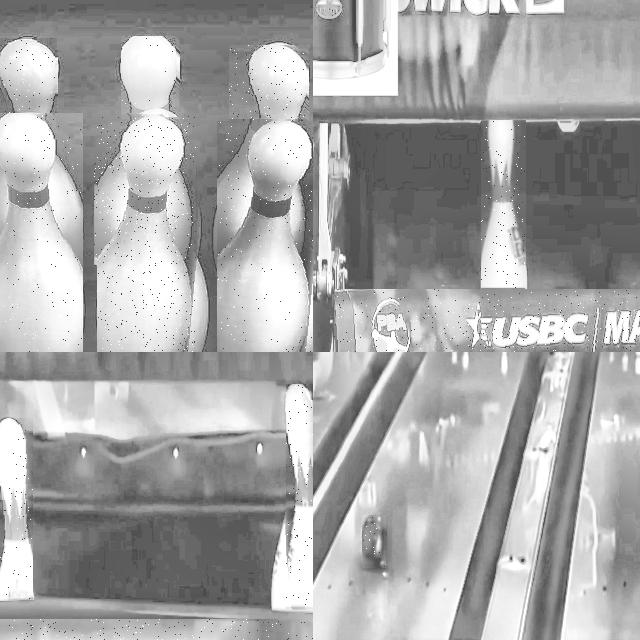bowling-ball: (362, 515, 385, 567)
bowling-pins: (97, 117, 196, 352), (218, 122, 313, 352), (0, 114, 82, 352), (229, 46, 307, 277), (481, 120, 525, 290), (286, 384, 313, 608), (0, 418, 33, 601), (121, 37, 177, 119), (0, 39, 56, 118), (95, 155, 131, 264), (48, 154, 79, 258), (175, 168, 195, 250), (306, 185, 313, 236)
sweep board: (334, 289, 640, 352)
